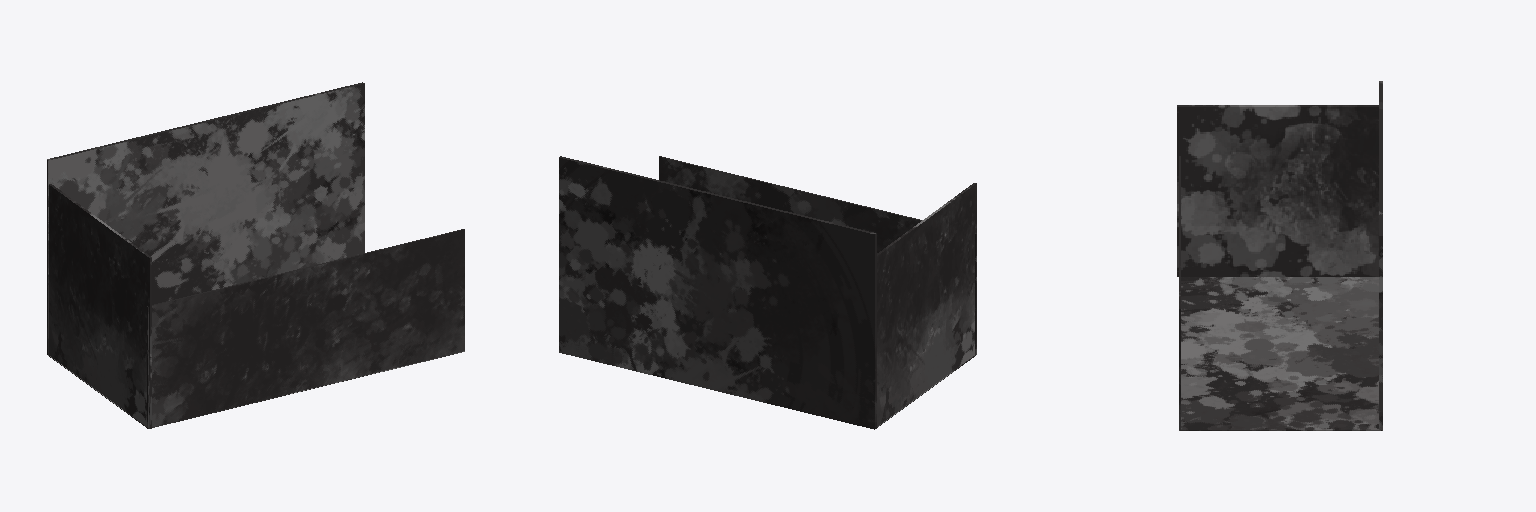
3 views of the same model, side by side, from view 1: azimuth 30°, elevation 25°; view 2: azimuth 150°, elevation 25°; view 3: azimuth 270°, elevation 25° (orthographic).
Visible parts, largest first — view 1: 外殻; view 2: 外殻; view 3: 外殻.
Boxes of the visible parts, x1=… form: 外殻: x1=47, y1=82, x2=464, y2=428; 外殻: x1=559, y1=156, x2=976, y2=429; 外殻: x1=1177, y1=81, x2=1382, y2=430.
Bounding box in the file's own units: 24.55 × 14.44 × 13.76.
1 materials, 1 textured.